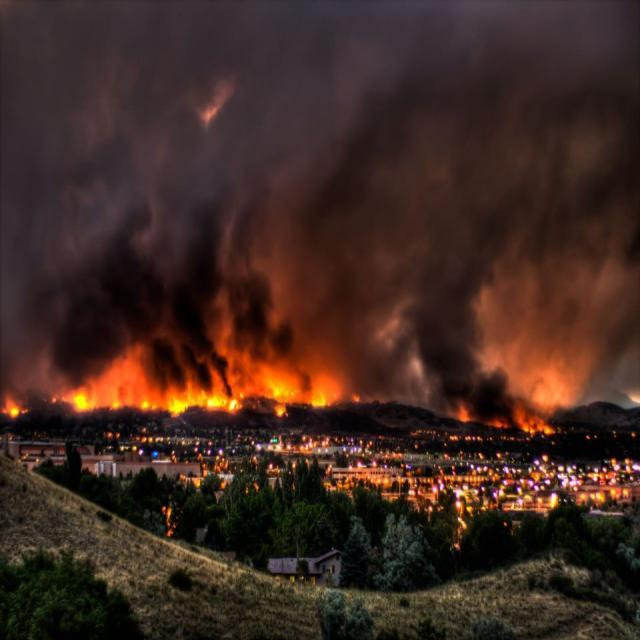Fire: (60, 373, 244, 416), (452, 400, 557, 442), (266, 382, 354, 414), (7, 397, 21, 420)
Smoke: (24, 16, 630, 374)
